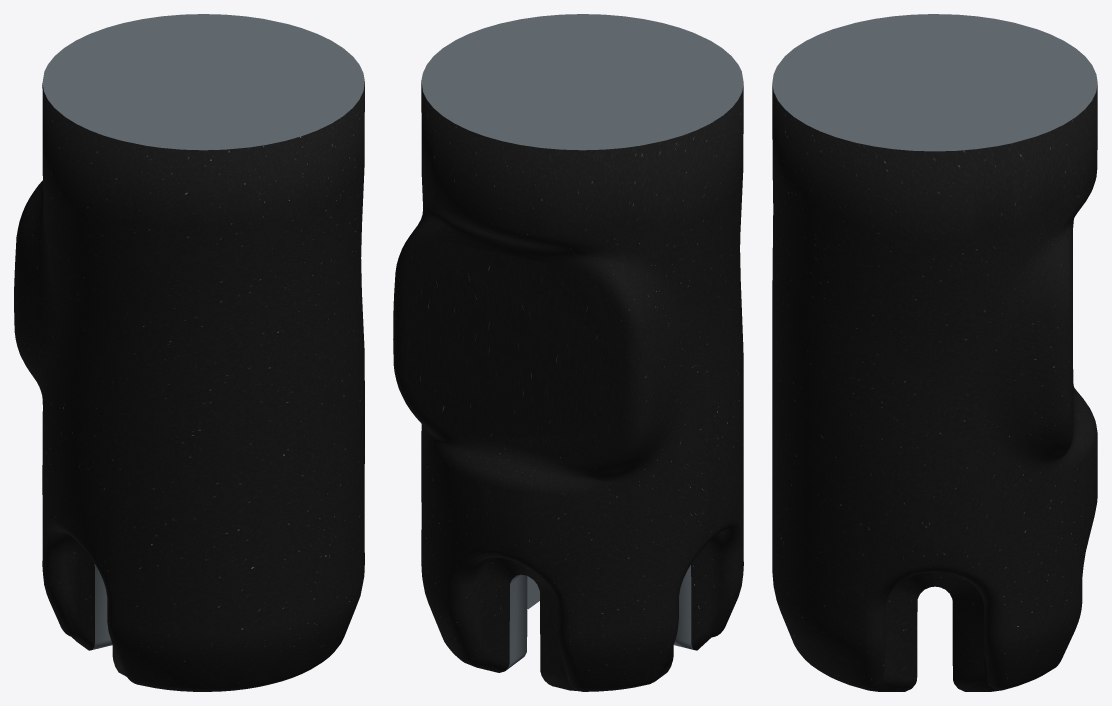
The picture shows the model from 3 angles, left to right: view 1: azimuth 30°, elevation 25°; view 2: azimuth 150°, elevation 25°; view 3: azimuth 270°, elevation 25°; orthographic projection.
Visible parts, largest first — view 1: node.002; view 2: node.002; view 3: node.002.
Boxes of the visible parts, x1=… form: node.002: x1=14, y1=14, x2=364, y2=691; node.002: x1=393, y1=14, x2=743, y2=691; node.002: x1=772, y1=14, x2=1097, y2=691.
Bounding box in the file's own units: 0.0825 × 0.0825 × 0.1567.
Materials: 1 (1 with a texture image).
